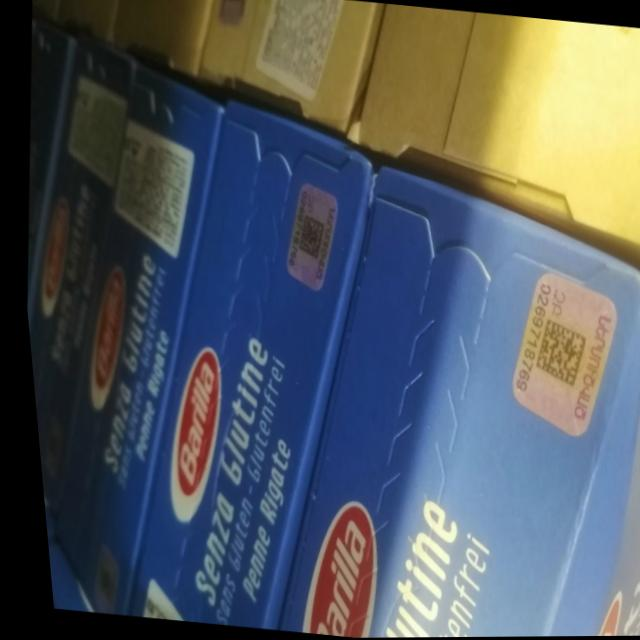datamatrix: (523, 316, 587, 391), (290, 211, 325, 262)
